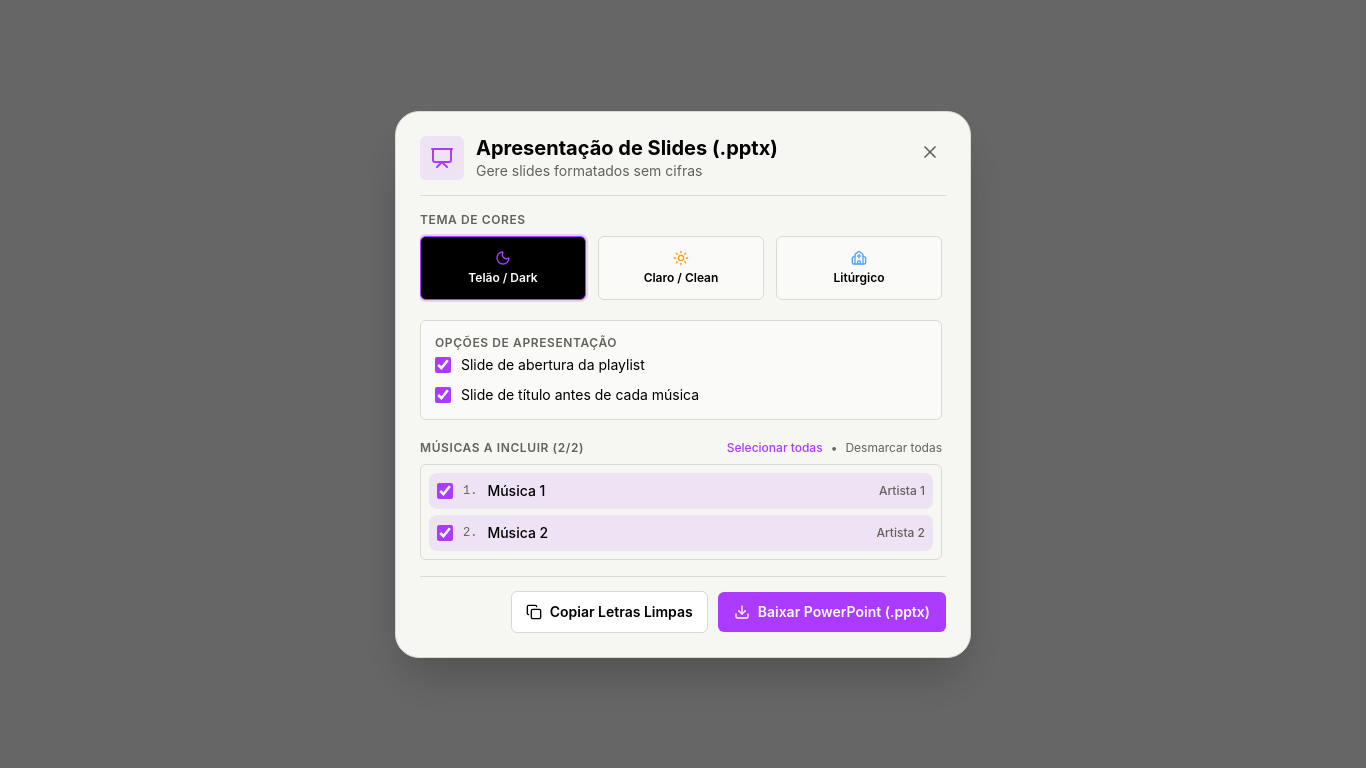
Test case: ExportPlaylistPresentationModal › should toggle song selection when clicked and allow select/deselect all
Click the element with test id "presentation-song-item-1".
click(681, 490)  # box [429,472,933,508]
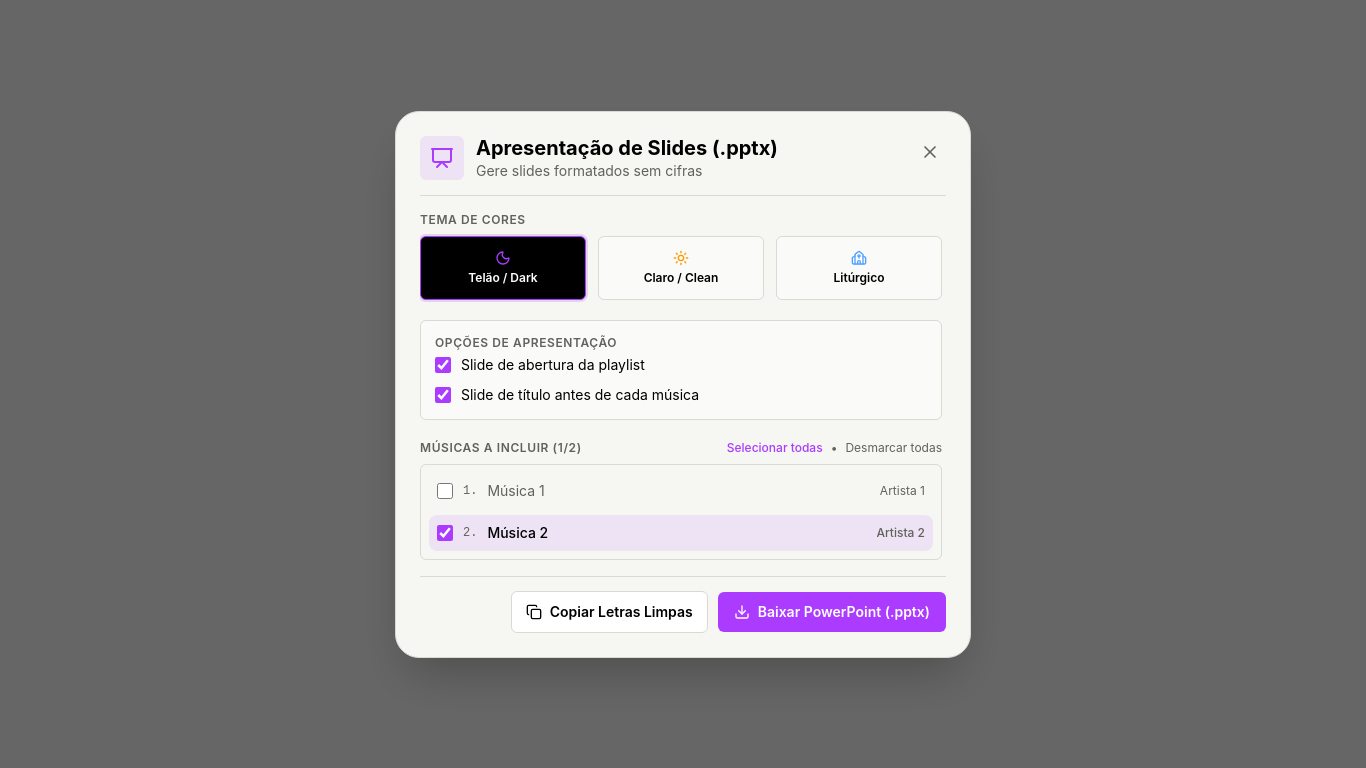
Note: Clicking deselect all then select all
Click the button "Desmarcar todas".
click(894, 448)  # box [845,440,942,456]
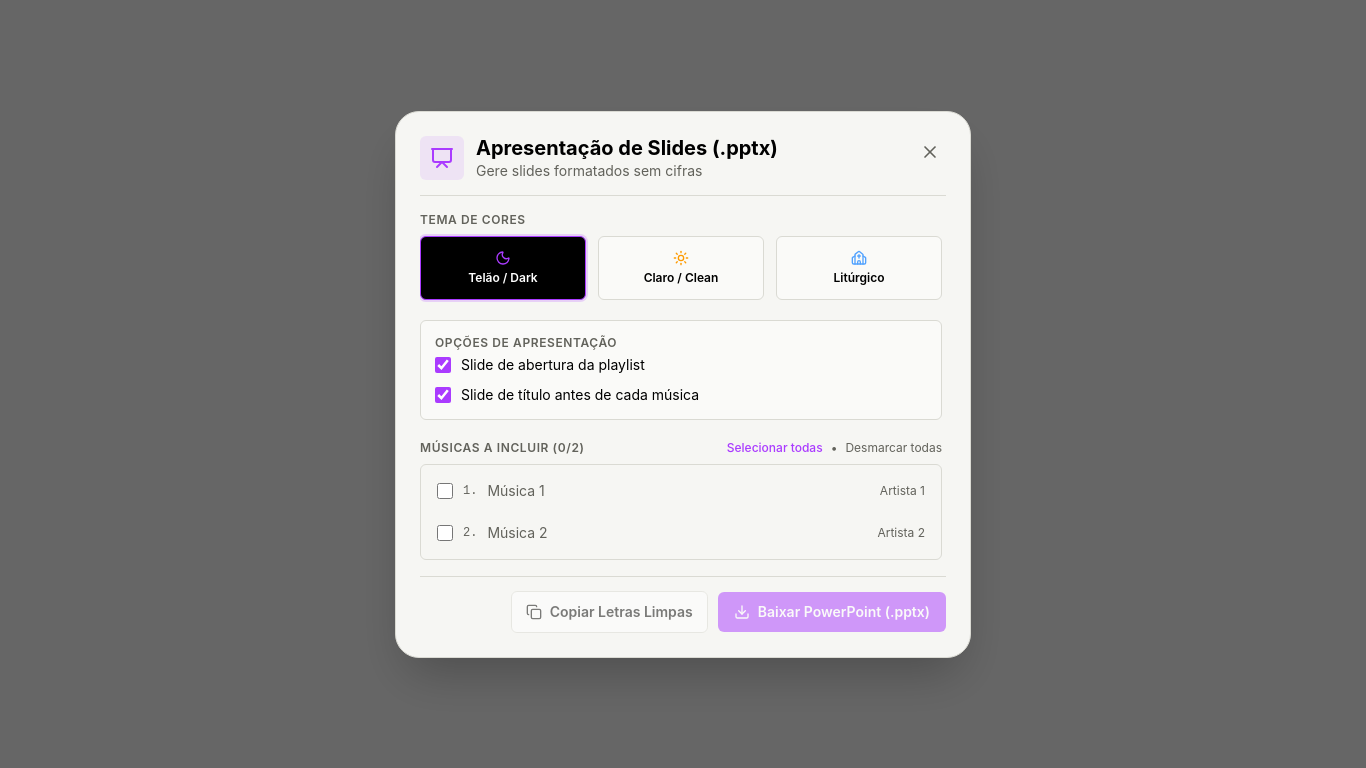
Check: the button with test id "download-pptx-btn" is disabled, box [718,592,946,632]
Click the button "Selecionar todas".
click(775, 448)  # box [727,440,823,456]
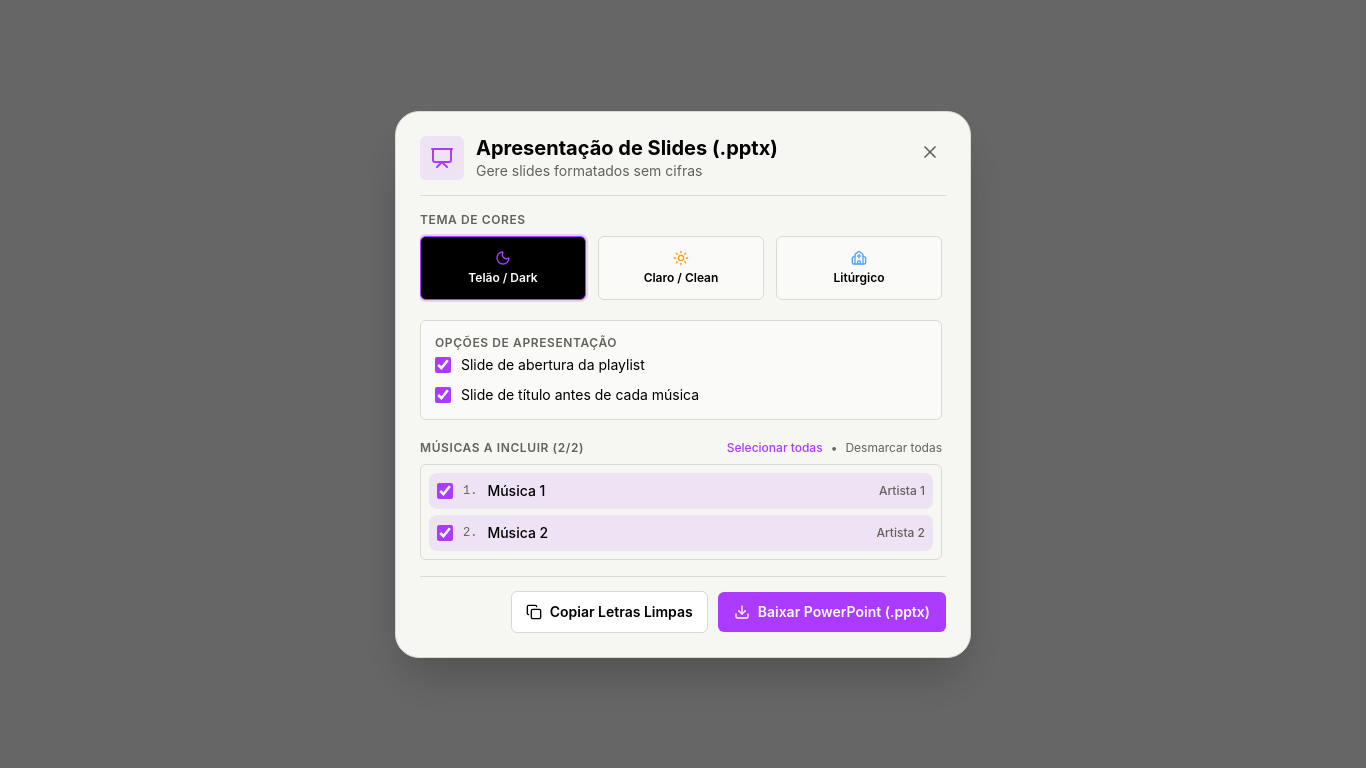
Check: the button with test id "download-pptx-btn" is enabled, box [718,592,946,632]
